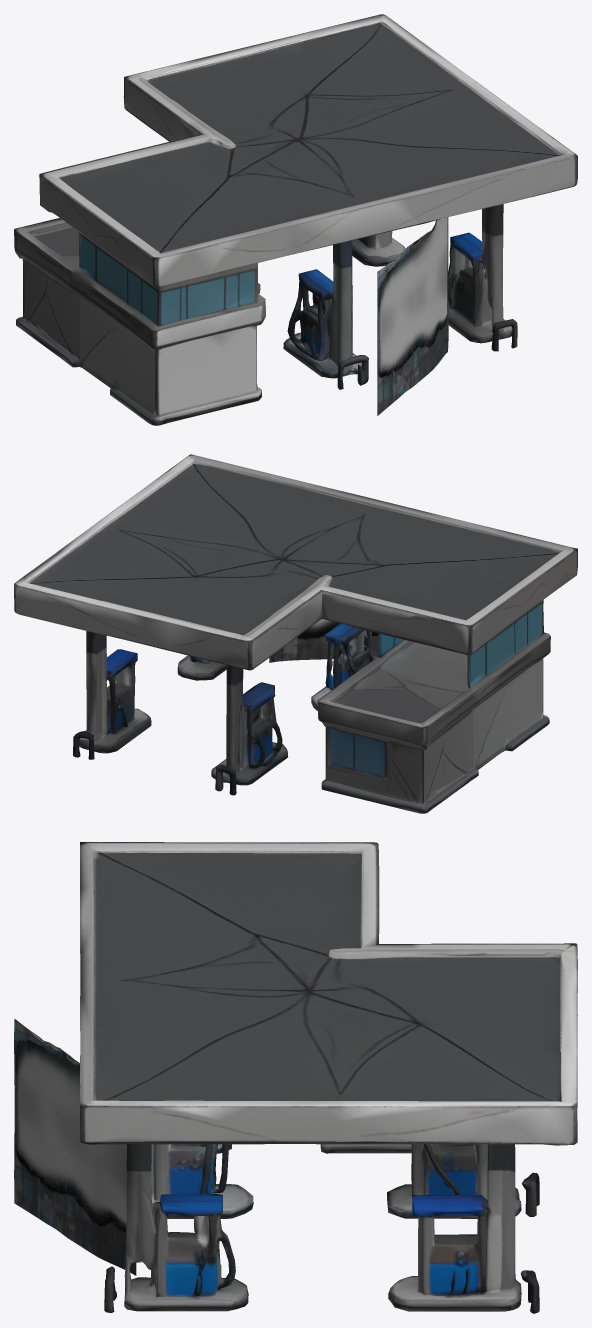
Rendered from gas_station.glb.
3 renders of one model, top to bottom at view 1: azimuth 30°, elevation 25°; view 2: azimuth 150°, elevation 25°; view 3: azimuth 270°, elevation 25°, orthographic. The views are drawn at different scales.
Visible parts, largest first — view 1: world; view 2: world; view 3: world.
Part boxes in pixels (x1=…): world: x1=14, y1=14, x2=577, y2=425; world: x1=14, y1=454, x2=577, y2=813; world: x1=14, y1=842, x2=577, y2=1313.
Bounding box in the file's own units: 0.9999 × 0.4237 × 0.9006.
1 material, 1 textured.
